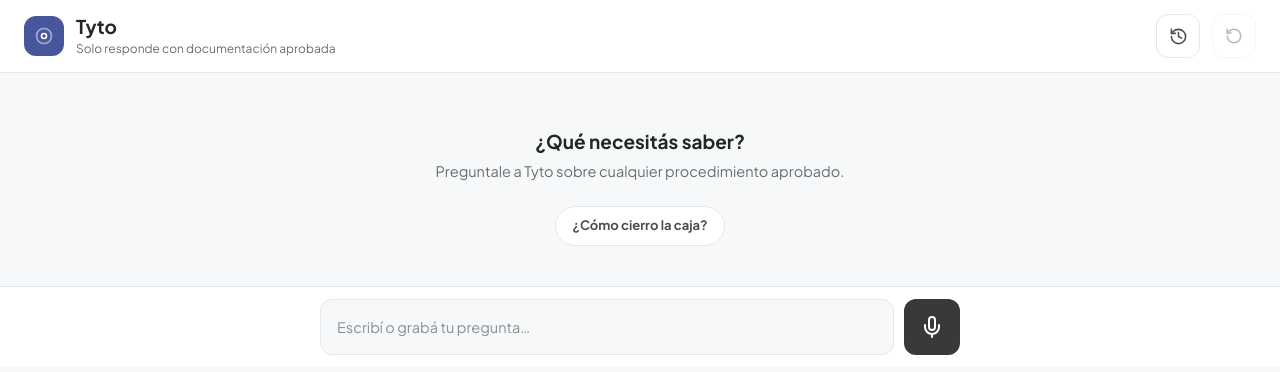
ConsultarPage › sin conversación en curso, muestra las sugerencias como chips y preguntar por uno pregunta directo
This screenshot has width=1280, height=372.
Click the button "¿Cómo cierro la caja?" at x=640, y=226, box [555,206,725,246]
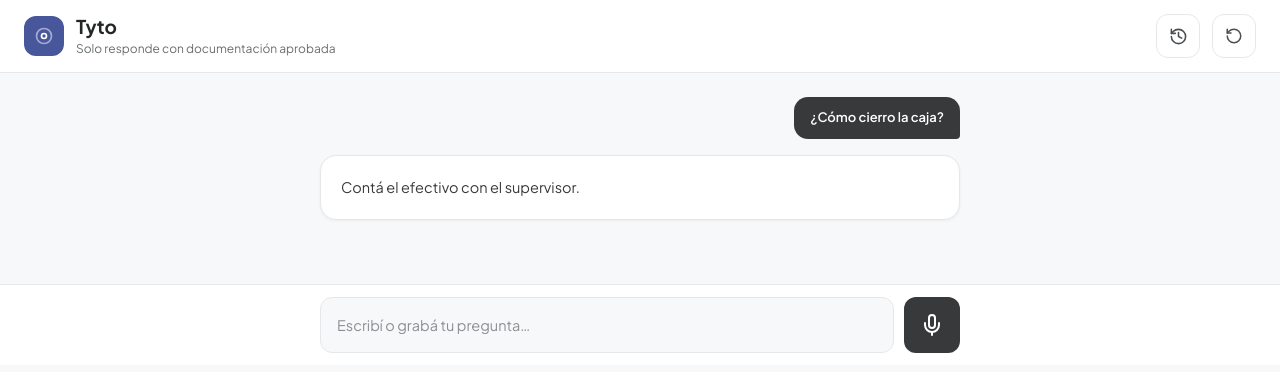
Expected: the text "¿Cómo cierro la caja?" is shown, [794,97,960,138]
Expected: the text "Contá el efectivo con el supervisor." is shown, [341,178,580,196]
